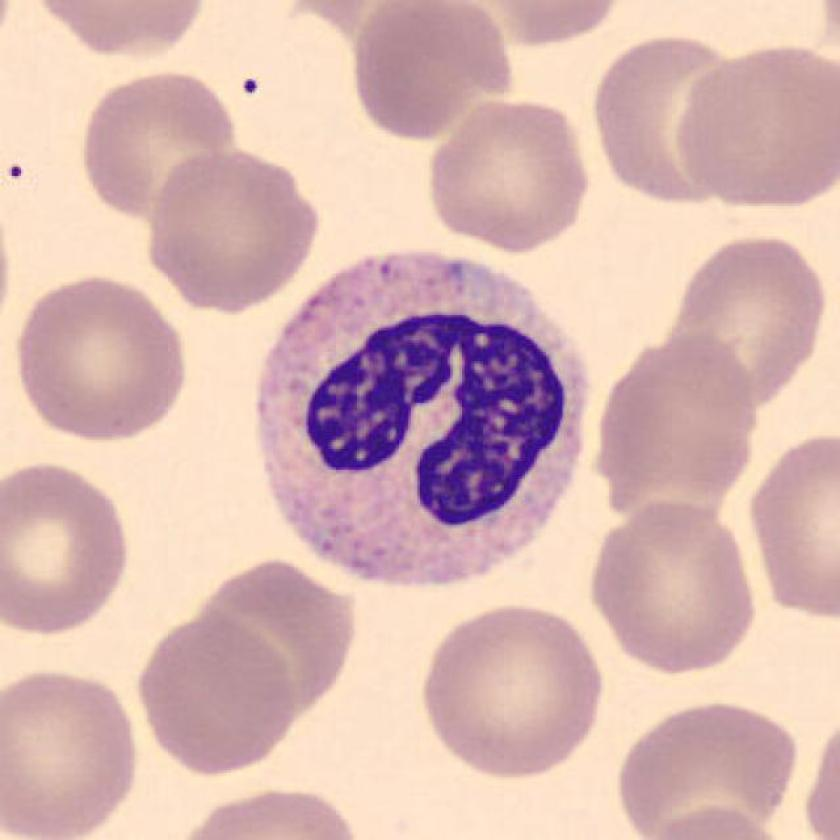neutrophil: (258, 253, 588, 588)
